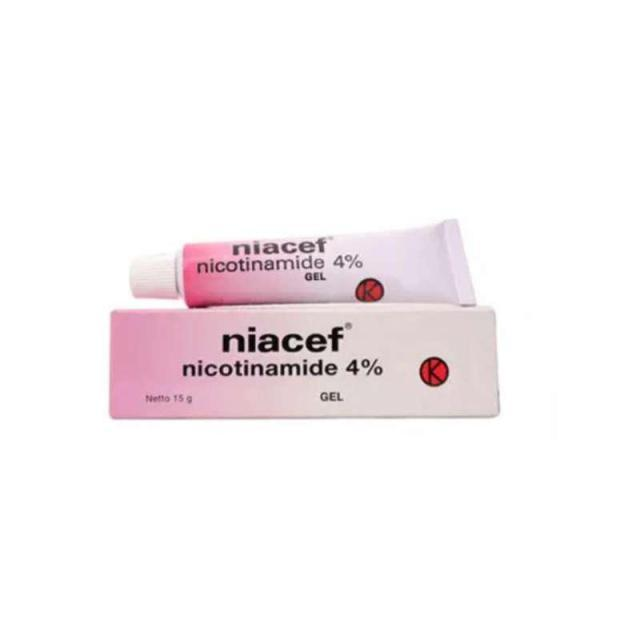drug-name: (216, 323, 349, 352)
